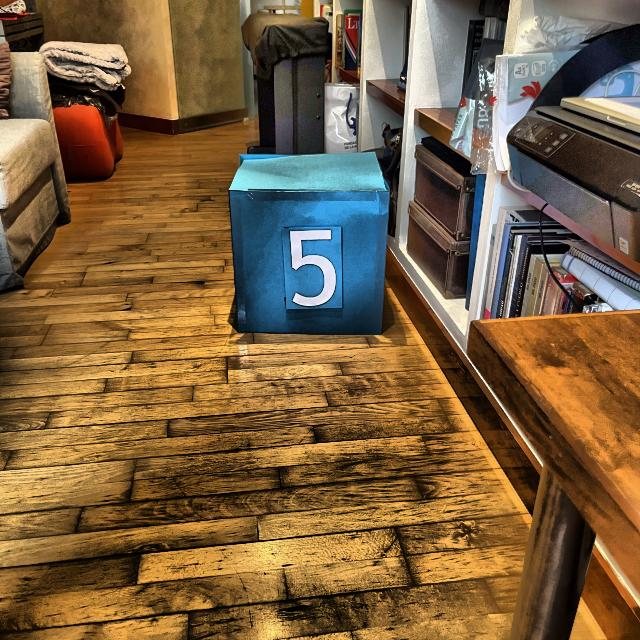blue box: (227, 149, 389, 331)
five: (286, 227, 345, 309)
